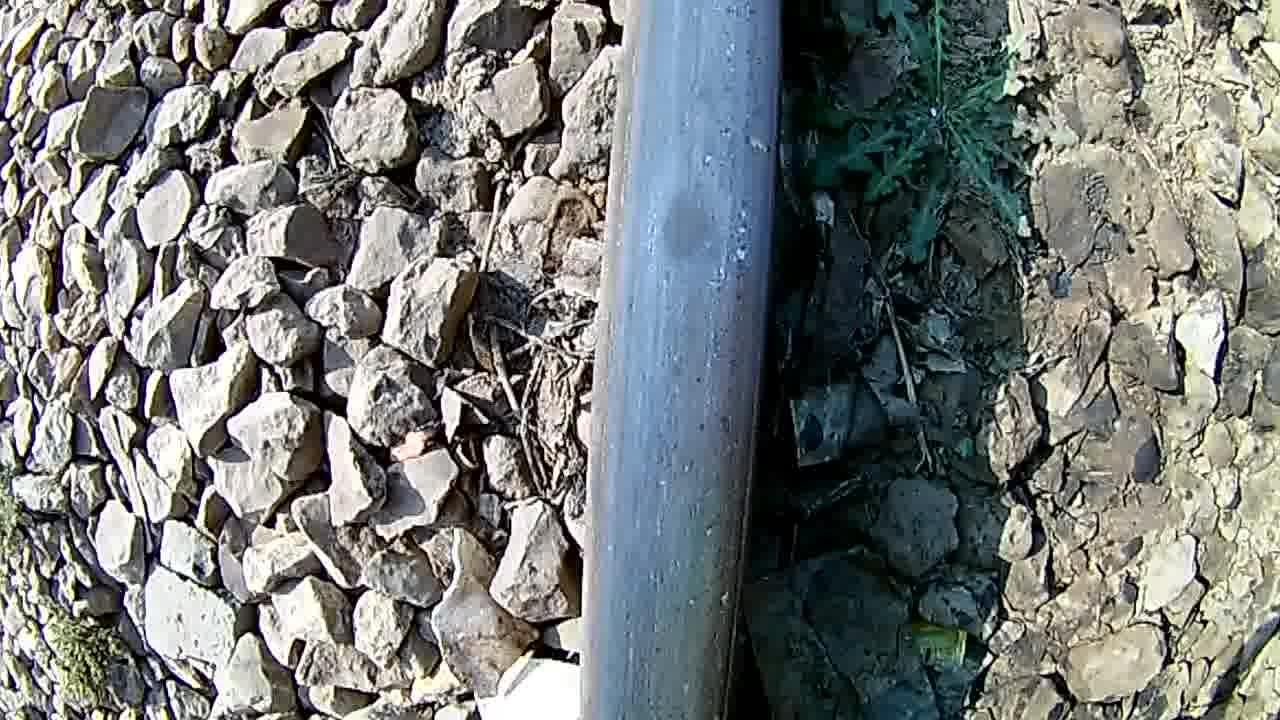bolt_missing: (606, 123, 790, 332)
